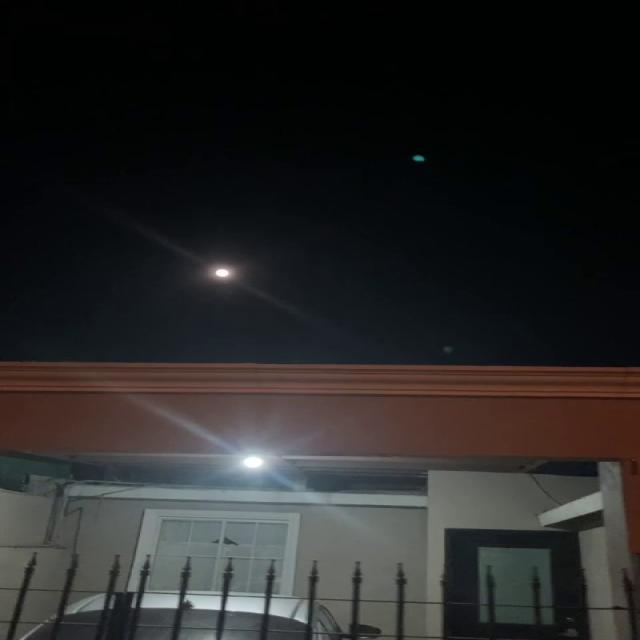moon: (207, 261, 241, 287)
